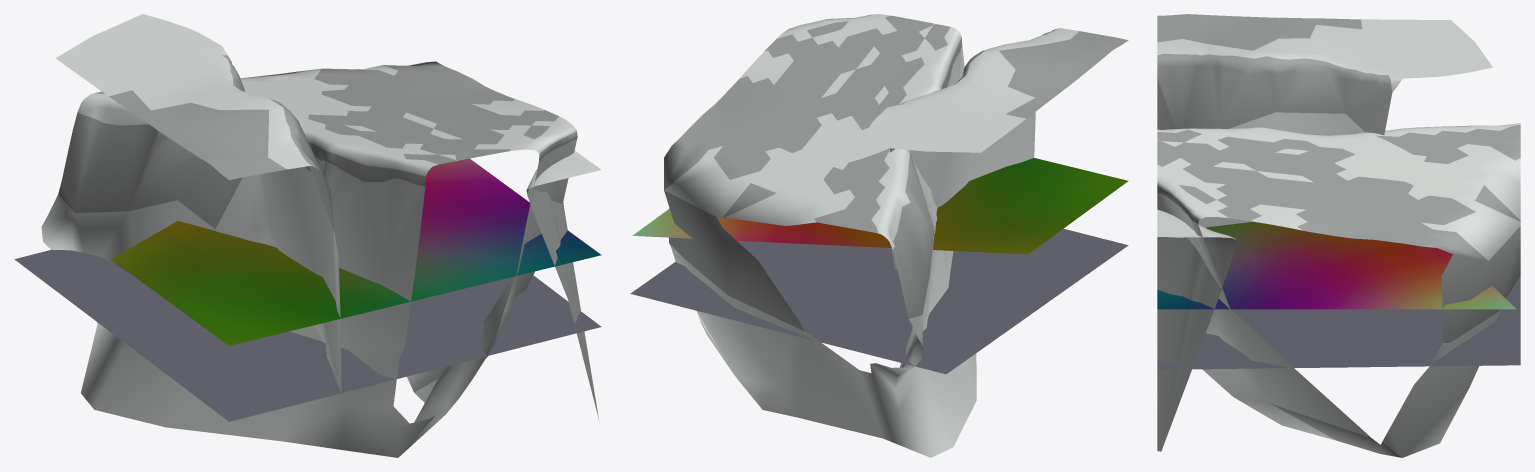
3 renders of one model, left to right at view 1: azimuth 30°, elevation 25°; view 2: azimuth 150°, elevation 25°; view 3: azimuth 270°, elevation 25°, orthographic. The views are drawn at different scales.
Visible parts, largest first — view 1: G:\FFXIV-MapTools\exports\r2f1\bg\ex1\01_roc_r2\fld\r2f1\bgp (×8); view 2: G:\FFXIV-MapTools\exports\r2f1\bg\ex1\01_roc_r2\fld\r2f1\bgp (×8); view 3: G:\FFXIV-MapTools\exports\r2f1\bg\ex1\01_roc_r2\fld\r2f1\bgp (×7).
Part boxes in pixels (left/top/right/bottom): G:\FFXIV-MapTools\exports\r2f1\bg\ex1\01_roc_r2\fld\r2f1\bgp (×8): left=14, top=14, right=601, bottom=457; G:\FFXIV-MapTools\exports\r2f1\bg\ex1\01_roc_r2\fld\r2f1\bgp (×8): left=630, top=14, right=1128, bottom=457; G:\FFXIV-MapTools\exports\r2f1\bg\ex1\01_roc_r2\fld\r2f1\bgp (×7): left=1157, top=14, right=1520, bottom=457.
Bounding box in the file's own units: 128 × 126 × 128.
